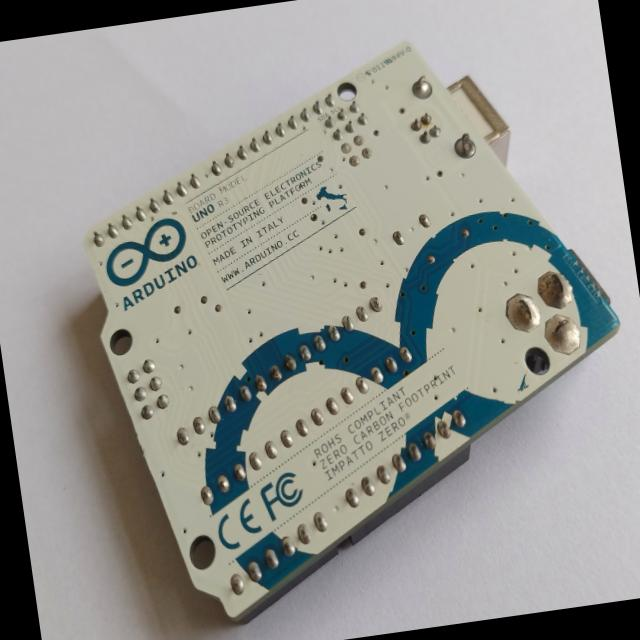arduino: (47, 5, 640, 640)
